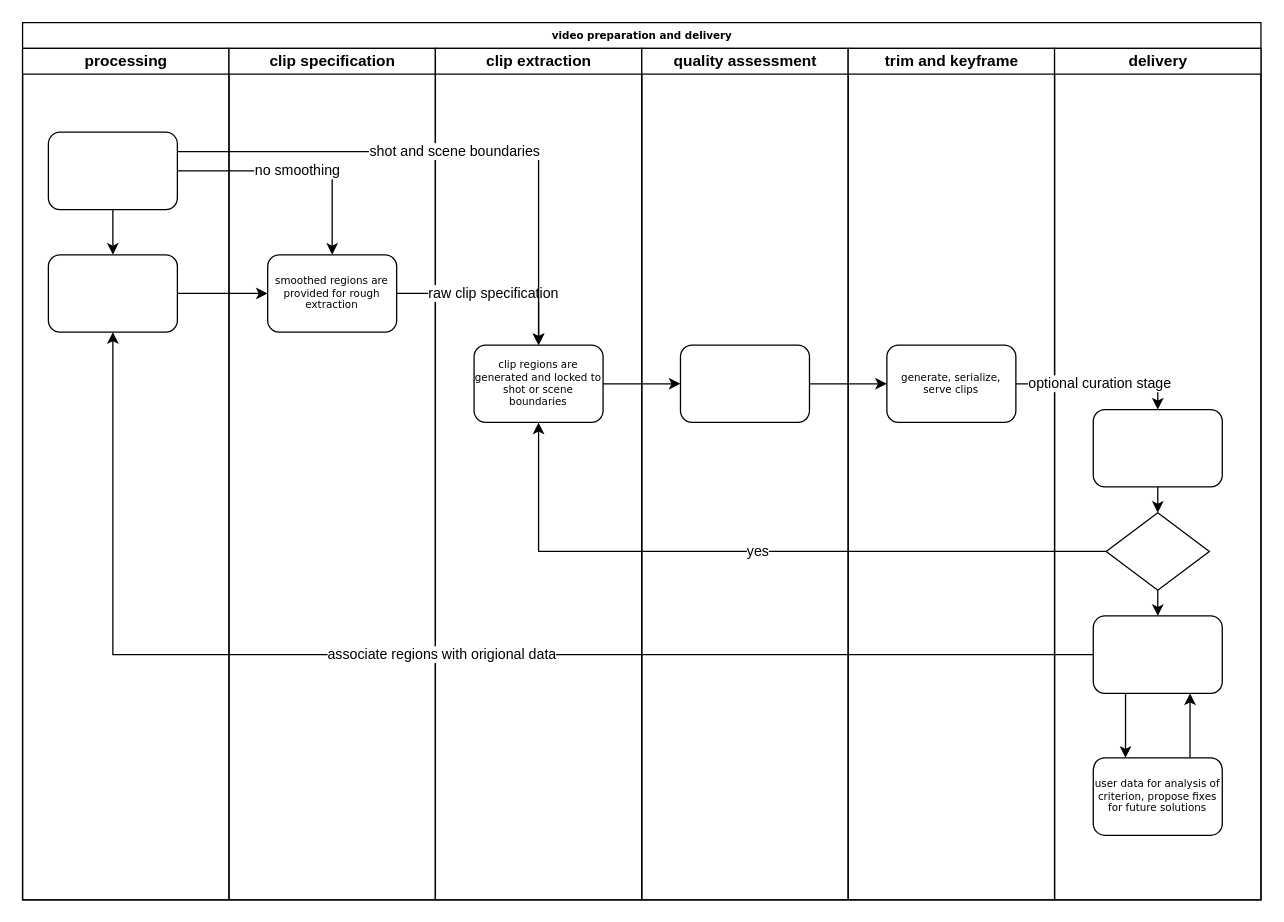
This 1284x922 diagram has some shape labels left out. The centre of each missing label's shape, as x and y in pixels:
"additional refinement" goes at point 1157,550.
"delivery to user" goes at point 1157,654.
"processing algorithm computes features and local cut points" goes at point 112,170.
"processing is smoothed into temporal regions" goes at point 112,292.
"quality metrics and transcode specifications used in generation" goes at point 744,383.
"user insepction and review of clips" goes at point 1157,447.
